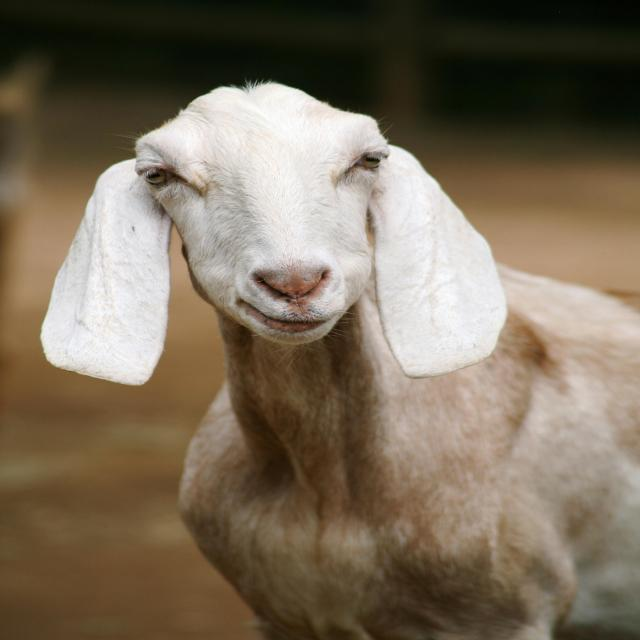Goat: (40, 80, 640, 640)
